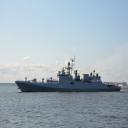Fragata: (16, 55, 123, 95)
